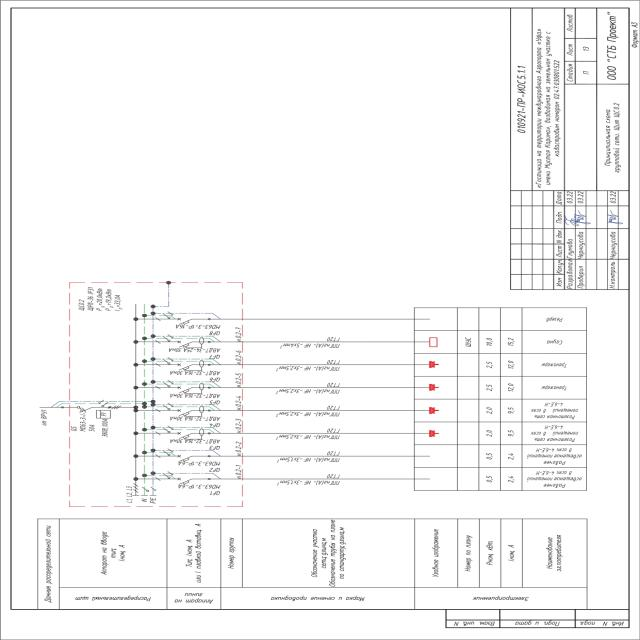-: (76, 286, 95, 311), (79, 407, 96, 433), (168, 392, 222, 399), (168, 416, 222, 422), (168, 370, 222, 376), (175, 323, 221, 330), (170, 438, 223, 444), (177, 459, 222, 466), (177, 483, 222, 489), (168, 348, 222, 353), (99, 418, 111, 438)
QF: (176, 453, 192, 462), (176, 316, 192, 324), (176, 477, 192, 485)
QFD: (153, 404, 204, 418), (154, 427, 205, 441), (154, 381, 205, 395), (155, 335, 205, 349), (155, 358, 204, 372)
QS: (75, 405, 94, 413)
WH: (96, 410, 112, 420)
